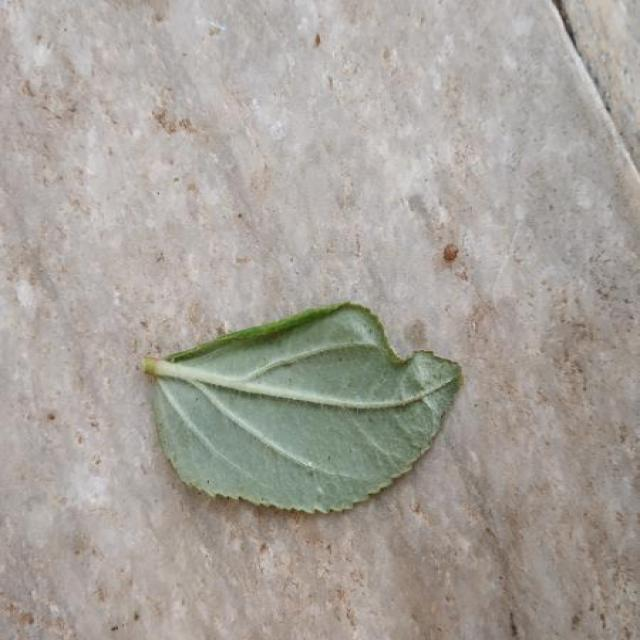defectetedAstma_weed: (143, 302, 462, 512)
